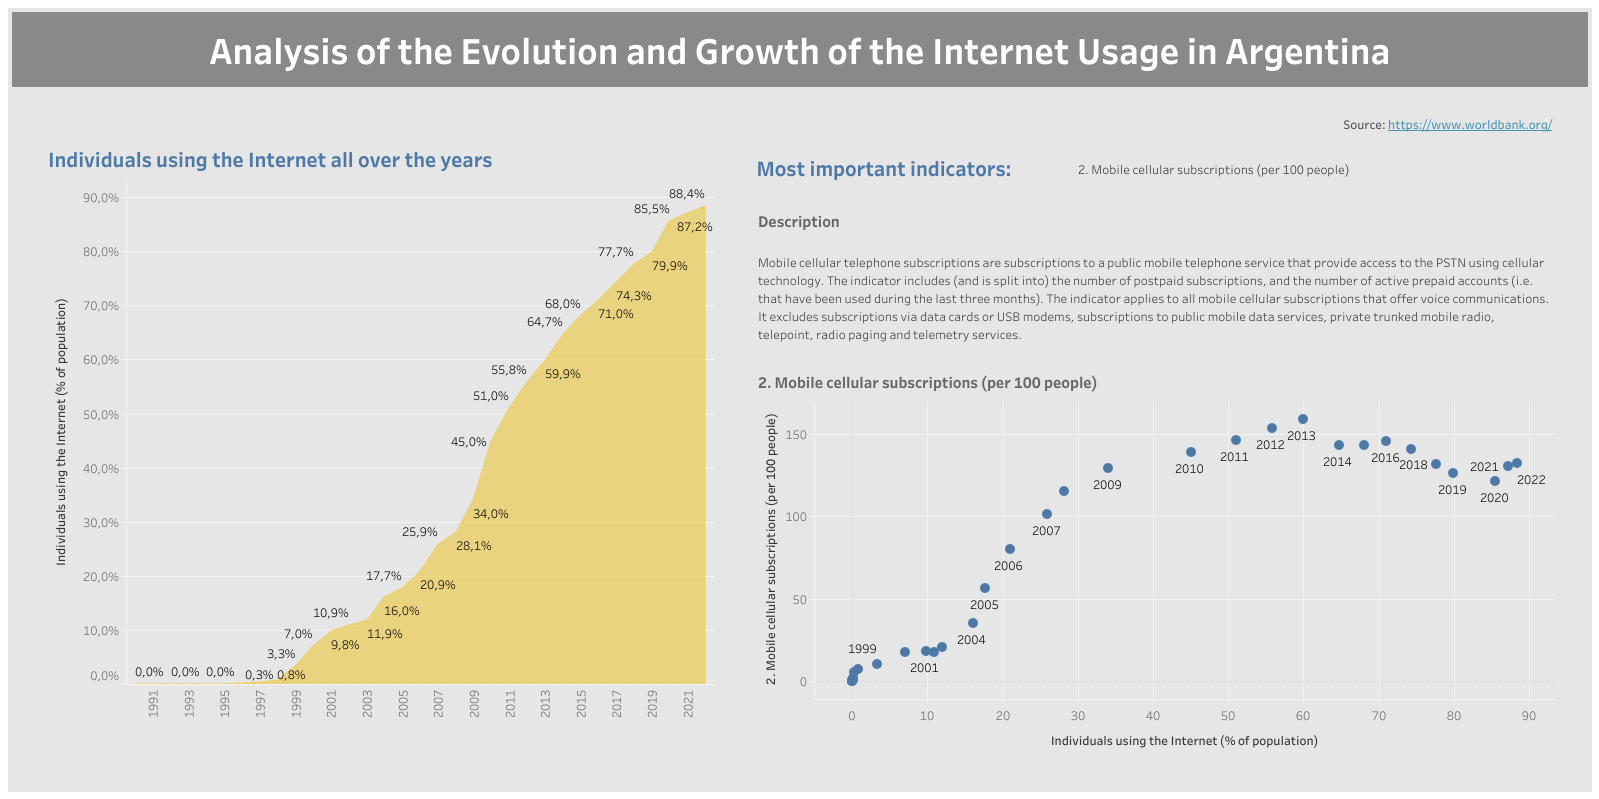

The dashboard page shown, as its layout file describes it:
{"tool":"tableau","page":{"name":"Dashboard","canvas":[1600,800],"ordinal":0},"visuals":[{"type":"text","box":[8,8,1584,83]},{"type":"blank","box":[8,91,31.8,701]},{"type":"blank","box":[39.8,91,1520.2,21.8]},{"type":"blank","box":[1560,91,32,701]},{"type":"text","box":[39.8,112.8,1520.2,21.8]},{"type":"worksheet","title":"Growth","mark":"Area","rows":["Individuals using the Internet (% of population)"],"cols":["Year"],"box":[39.8,134.6,678.2,593.3]},{"type":"blank","box":[718,134.6,32,625.4]},{"type":"text","box":[750,134.6,810,65.4]},{"type":"parameter","param":"[Parameters].[Parâmetro 1]","box":[1076,160,482,48]},{"type":"worksheet","title":"Descriptions","mark":"Automatic","box":[750,200,810,161.4]},{"type":"worksheet","title":"Correlation","mark":"Circle","rows":["Calculation_15199700889370708"],"cols":["Individuals using the Internet (% of population)"],"box":[750,361.4,810,398.6]},{"type":"legend","title":"Growth","param":"[federated.1flblr811bgev812rw6x91bave75].[:Measure Names]","box":[39.8,728,678.2,32]},{"type":"blank","box":[39.8,760,1520.2,32]}]}

Visuals, with their boxes in screenshot pixels (x1, y1, x2, y2), scaled from the page's 1600x800 canvas onto the 1599x799 screenshot:
text: 8, 8, 1591, 91
blank: 8, 91, 40, 791
blank: 40, 91, 1559, 113
blank: 1559, 91, 1591, 791
text: 40, 113, 1559, 134
"Growth" worksheet (Area marks): 40, 134, 718, 727
blank: 718, 134, 750, 759
text: 750, 134, 1559, 200
parameter: 1075, 160, 1557, 208
"Descriptions" worksheet: 750, 200, 1559, 361
"Correlation" worksheet (Circle marks): 750, 361, 1559, 759
"Growth" legend: 40, 727, 718, 759
blank: 40, 759, 1559, 791
